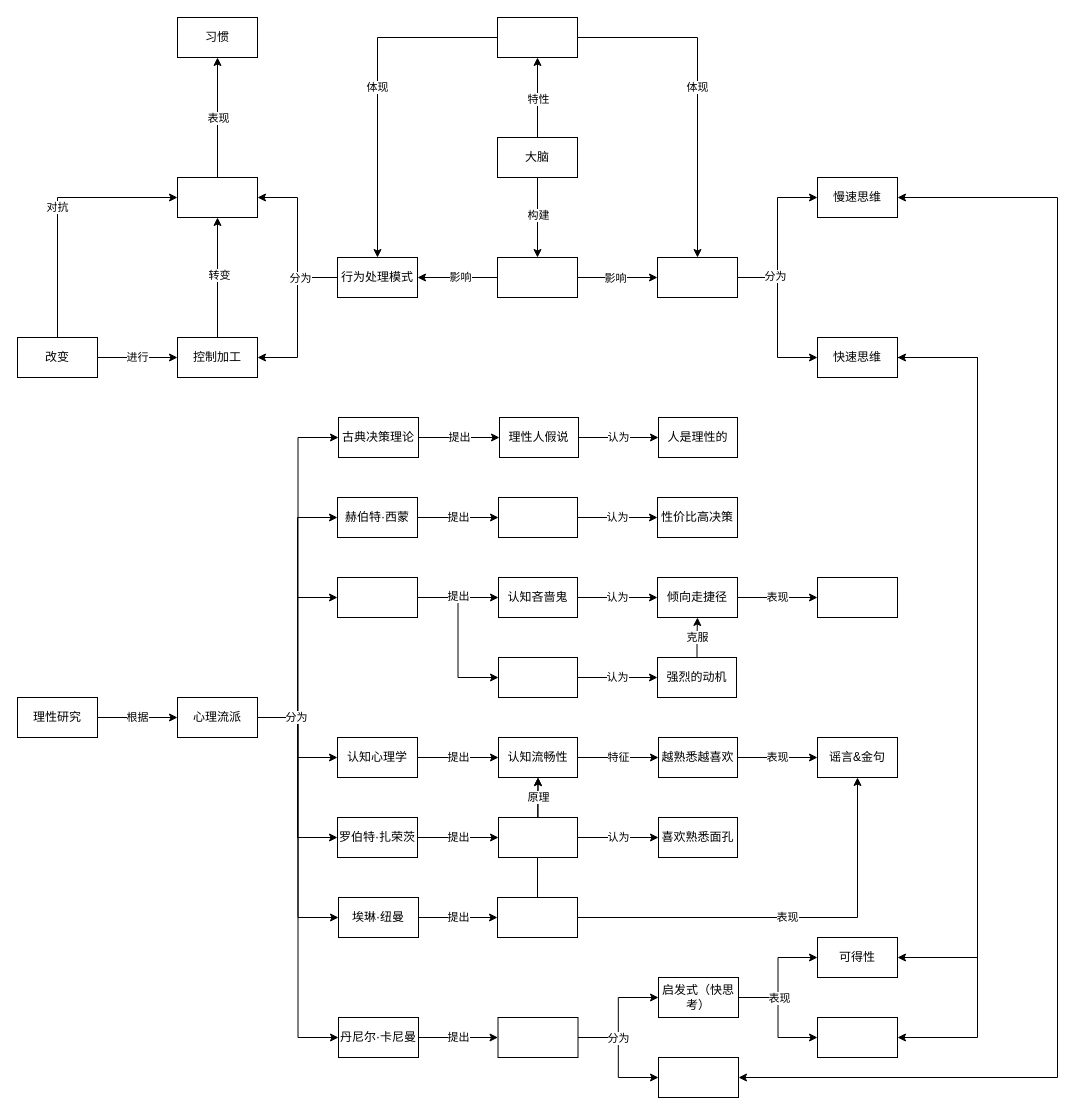
This 1084x1115 diagram has some shape labels left out. The shapes that lost their labels are listed below. From the top down, each one's centre as x and y in pixels, then its label:
At point (537, 37): "节能".
At point (217, 197): "自动化加工".
At point (537, 277): "预测模型".
At point (697, 277): "认知思维模式".
At point (538, 517): "有限理性假说".
At point (377, 597): "苏珊·菲斯克&谢利·泰勒".
At point (857, 597): "刻板印象".
At point (538, 677): "激动策略者".
At point (538, 837): "单纯曝光效应".
At point (537, 917): "无关细节提升观点认同".
At point (537, 1037): "双系统模型".
At point (857, 1037): "代表性".
At point (698, 1077): "慢思考".
